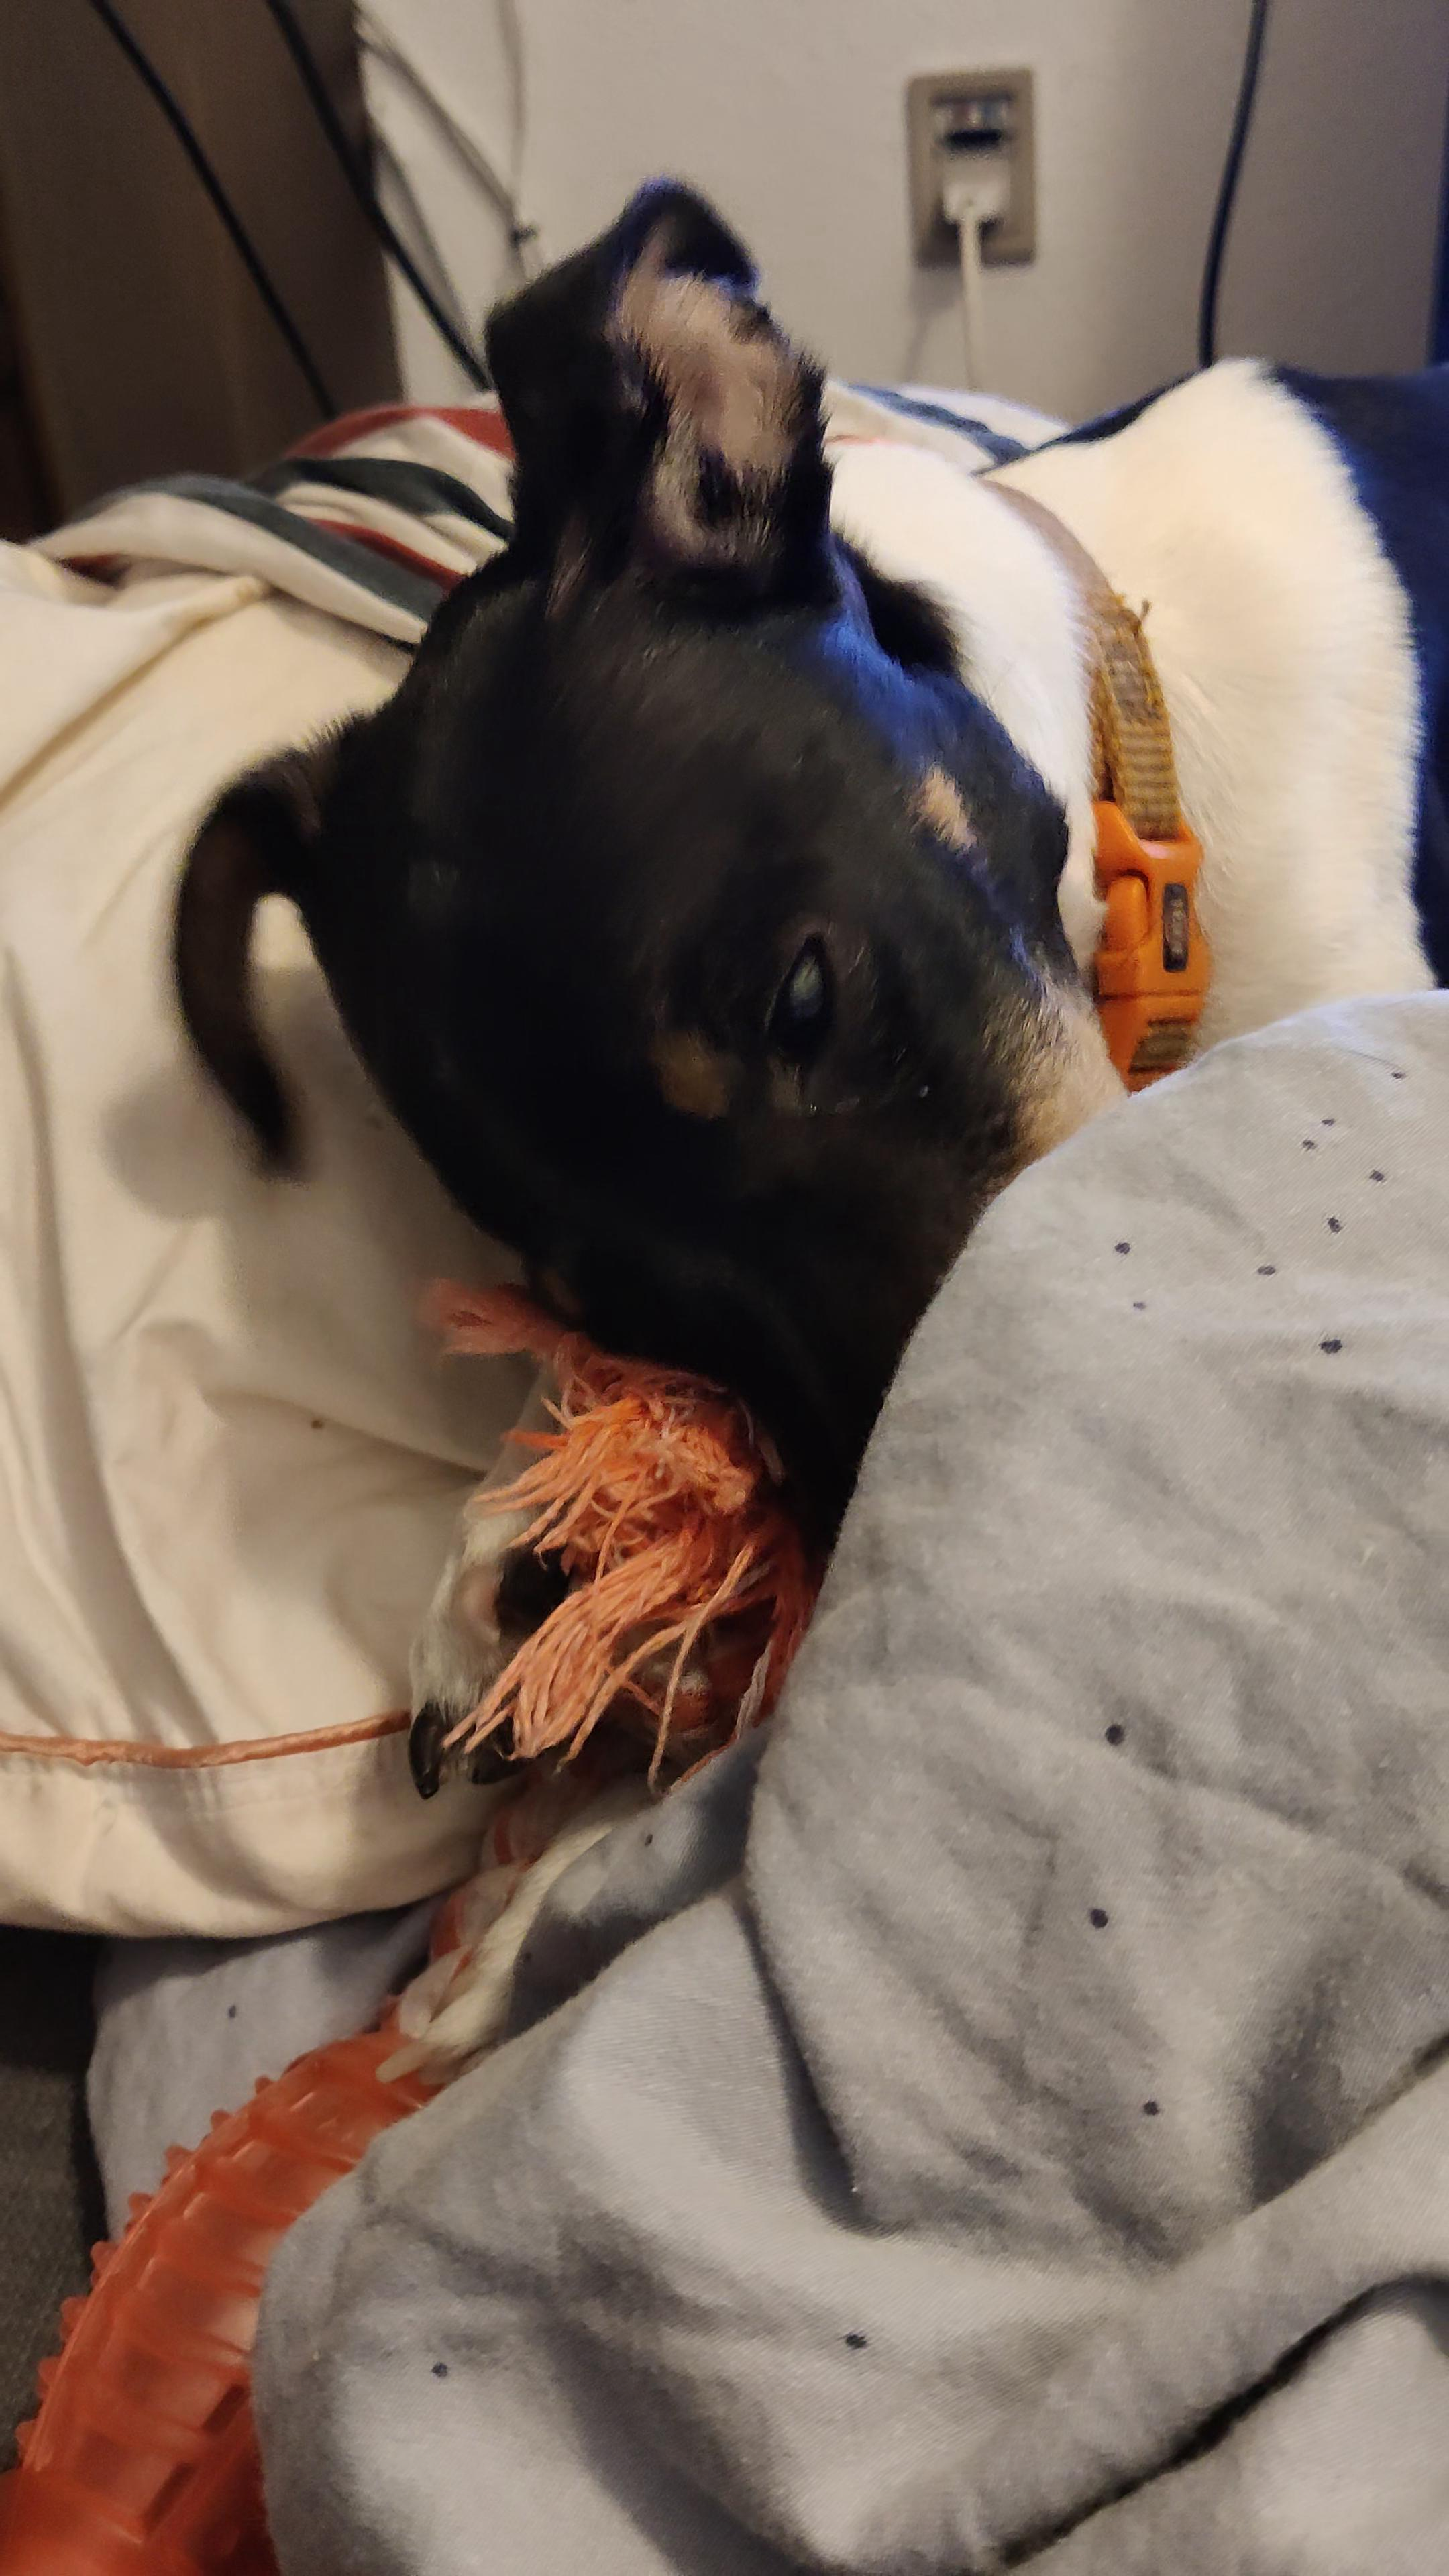Dog: (170, 138, 1449, 2112)
